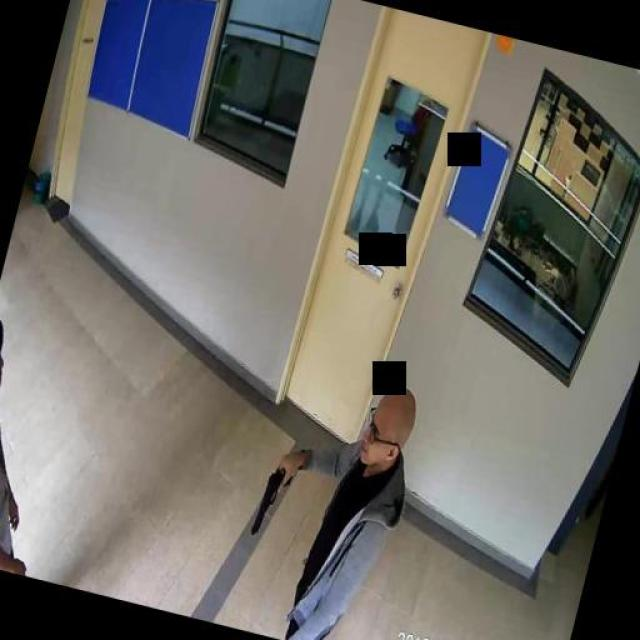gun: (250, 461, 295, 539)
